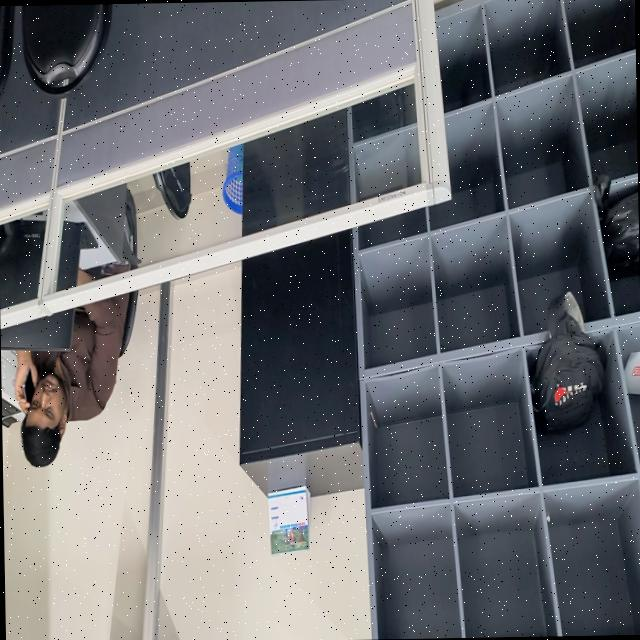Chair: (22, 4, 111, 95), (152, 162, 191, 219), (123, 188, 138, 269), (120, 290, 137, 356), (0, 5, 12, 89)
Monitor: (0, 220, 45, 309), (0, 309, 73, 350), (57, 221, 83, 287)
